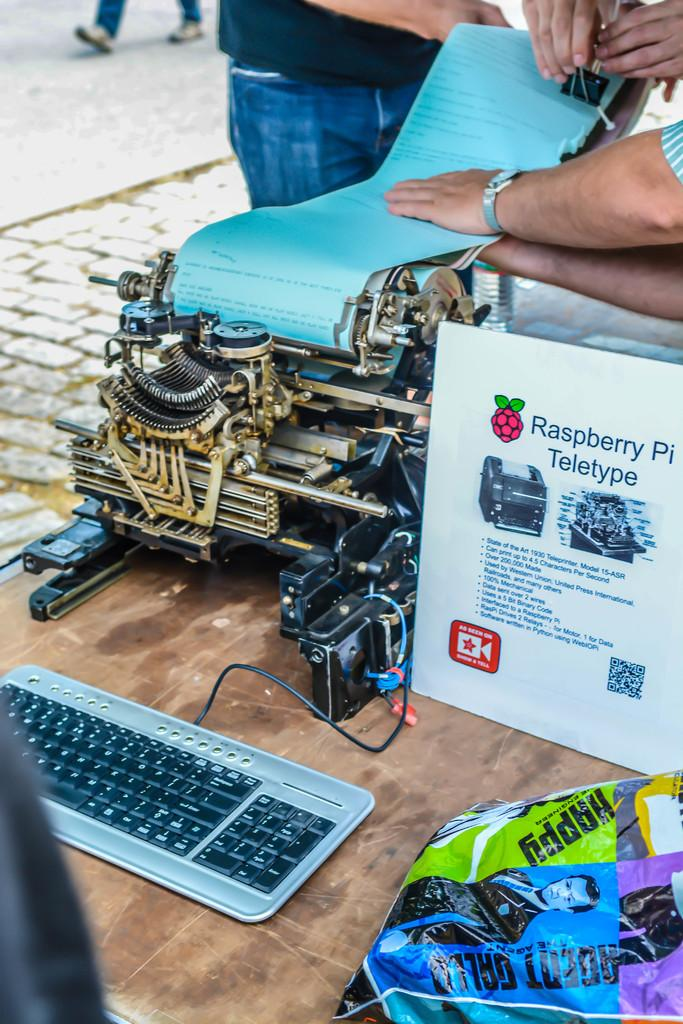Computer-keyboard: (0, 659, 411, 924)
